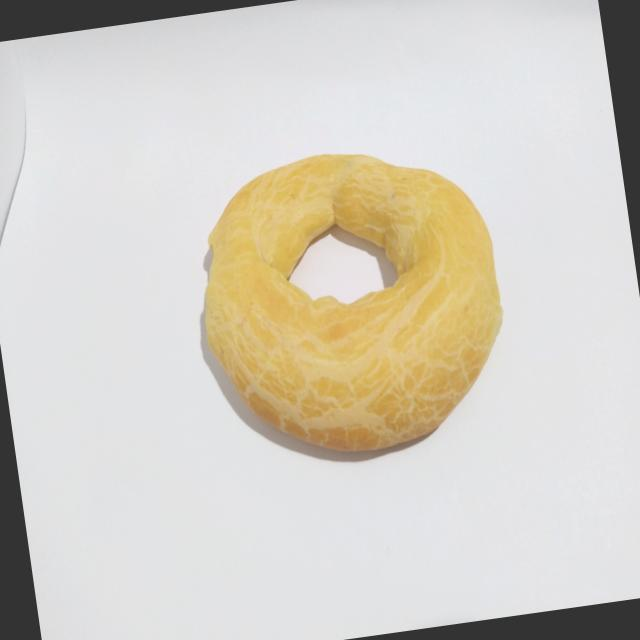Chipa: (165, 120, 536, 494)
